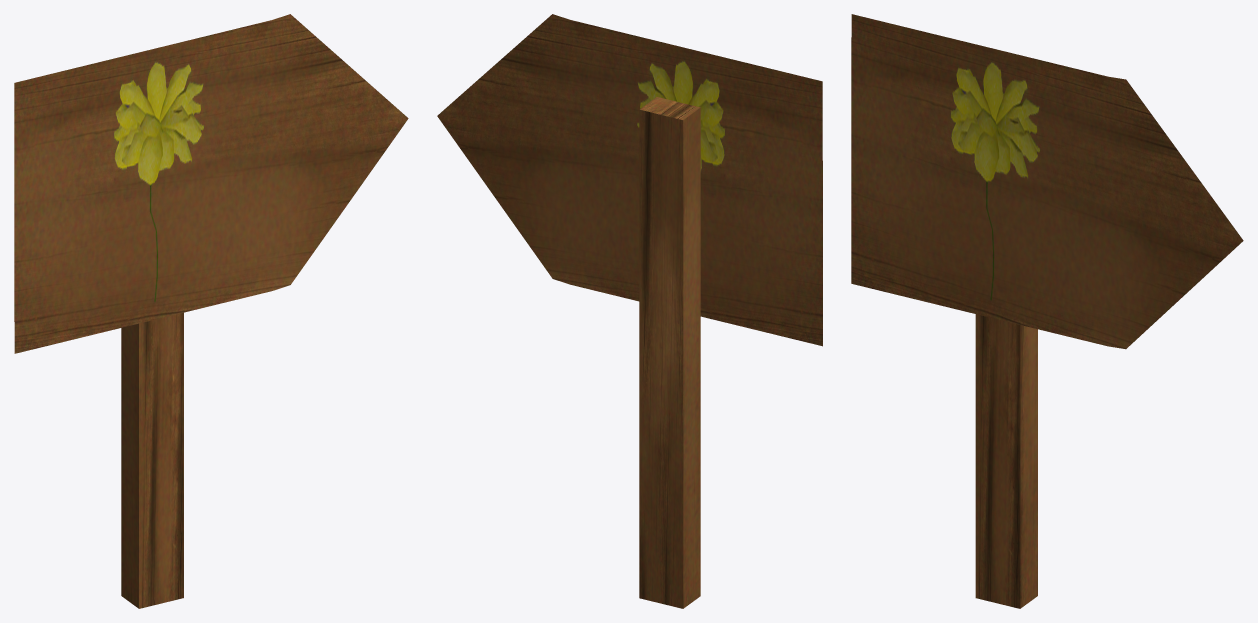
Rendered from Bord_Rechts.fbx.
3 renders of one model, left to right at view 1: azimuth 30°, elevation 25°; view 2: azimuth 150°, elevation 25°; view 3: azimuth 330°, elevation 25°, orthographic. The views are drawn at different scales.
Visible parts, largest first — view 1: pCube2; view 2: pCube2; view 3: pCube2.
Part boxes in pixels (left/top/right/bottom): pCube2: left=14, top=14, right=408, bottom=608; pCube2: left=437, top=14, right=822, bottom=608; pCube2: left=851, top=14, right=1243, bottom=608.
Bounding box in the file's own units: 7.71 × 10.43 × 0.6113.
Materials: 1 (1 with a texture image).
